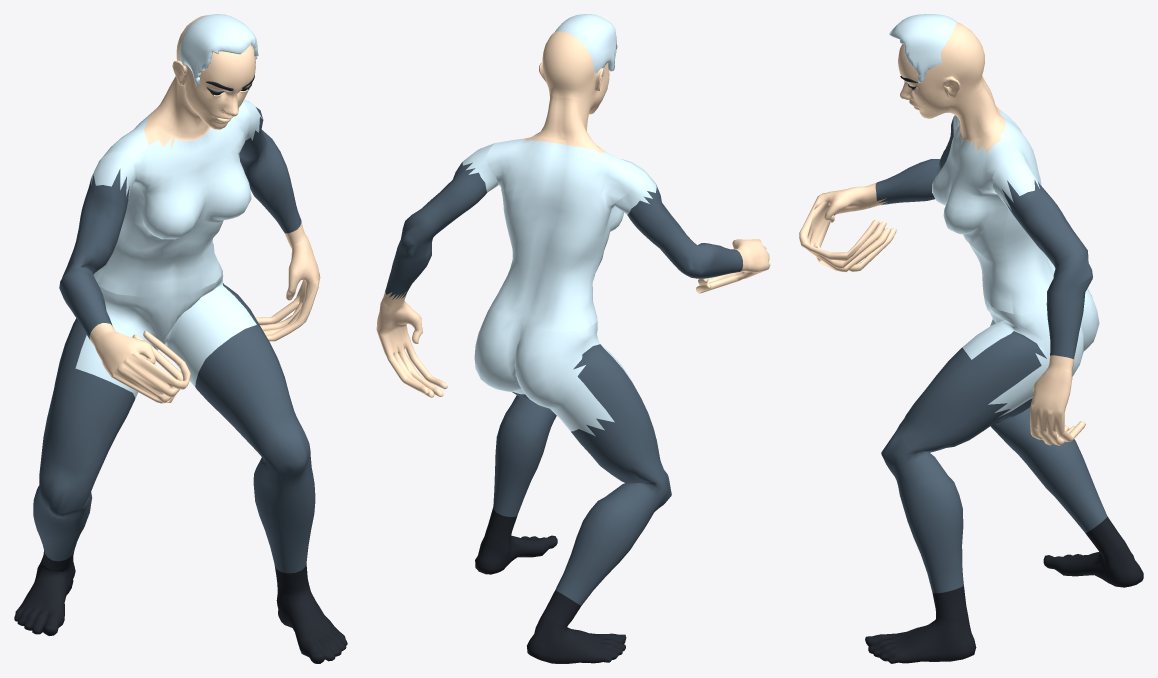
The model's file is fighter-sable-iron.glb.
3 views of the same model, side by side, from view 1: azimuth 30°, elevation 25°; view 2: azimuth 150°, elevation 25°; view 3: azimuth 270°, elevation 25° (orthographic). The views are drawn at different scales.
Visible parts, largest first — view 1: Superhero_Female, fighterSableIron_Hair_Hair_BuzzedFemale; view 2: Superhero_Female, fighterSableIron_Hair_Hair_BuzzedFemale; view 3: Superhero_Female, fighterSableIron_Hair_Hair_BuzzedFemale.
Boxes of the visible parts, x1,y1,x2,y2 form: Superhero_Female: (14,15,347,663); fighterSableIron_Hair_Hair_BuzzedFemale: (179,14,258,85); Superhero_Female: (376,31,770,663); fighterSableIron_Hair_Hair_BuzzedFemale: (554,14,617,73); Superhero_Female: (799,22,1143,663); fighterSableIron_Hair_Hair_BuzzedFemale: (889,14,957,82).
Bounding box in the file's own units: 0.8684 × 1.64 × 0.8503.
